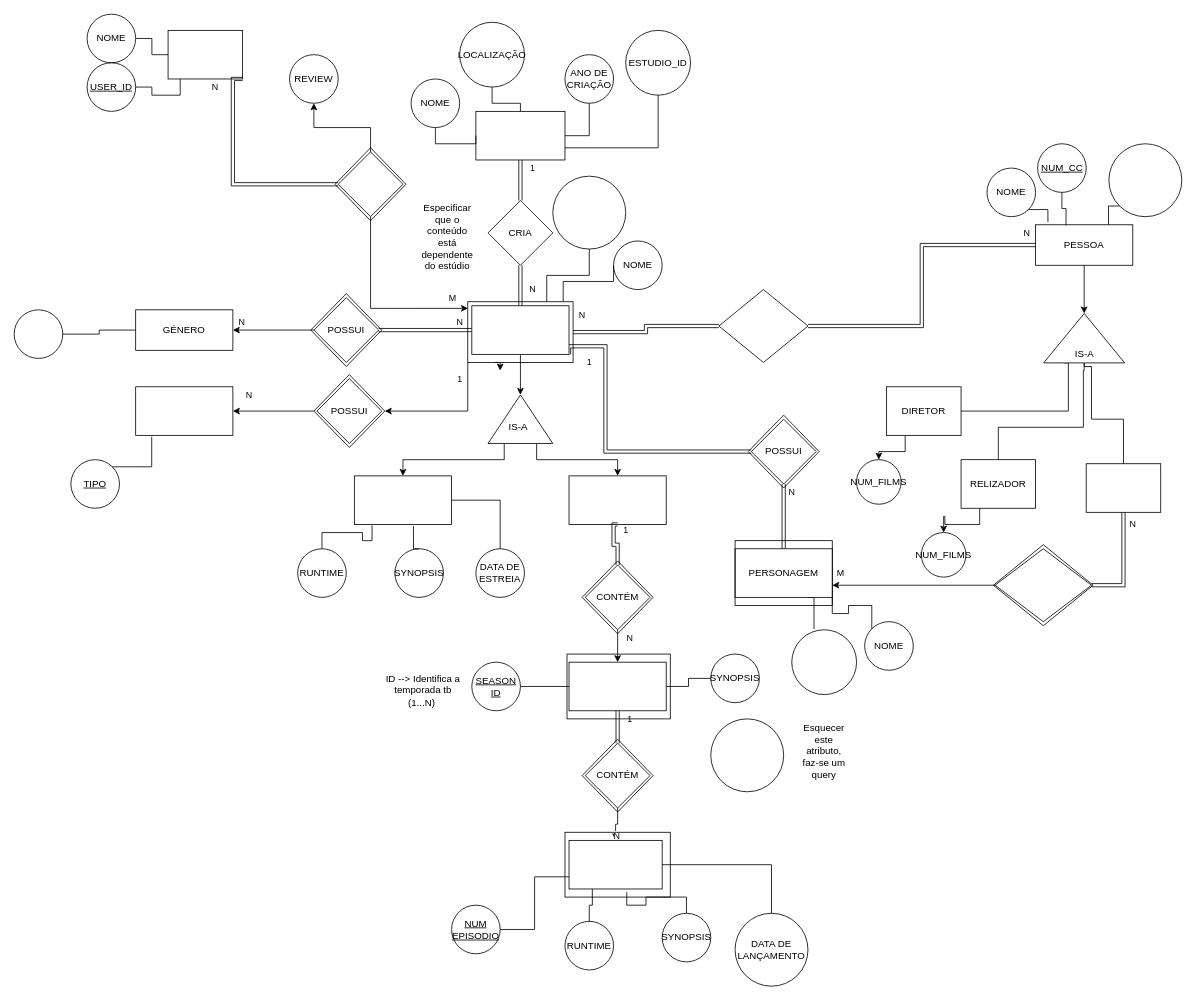
Some shapes in this 1196 by 1000 pixel diagram are drawn without their labels. Here are the shapes that lost their labels. From the top down, the centre of each, then its label:
pixel 205 54: UTILIZADOR
pixel 520 135: ESTÚDIO
pixel 370 184: AVALIA
pixel 1145 180: DATA DE NASCIMENTO
pixel 589 212: CONTENT_ID
pixel 38 333: NOME_ GENERO
pixel 520 329: CONTEÚDO
pixel 763 325: TRABALHAM EM
pixel 184 410: PRÉMIO
pixel 403 499: FILME
pixel 617 499: SÉRIE TELEVISIVA
pixel 1123 487: ATOR
pixel 1042 585: INTERPRETAR
pixel 824 662: PAPEL DESCRIÇÃO
pixel 617 686: TEMPORADA
pixel 747 755: Nº EPISODIOS
pixel 615 864: EPISÓDIO
